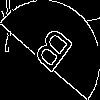B: (25, 25, 76, 82)
